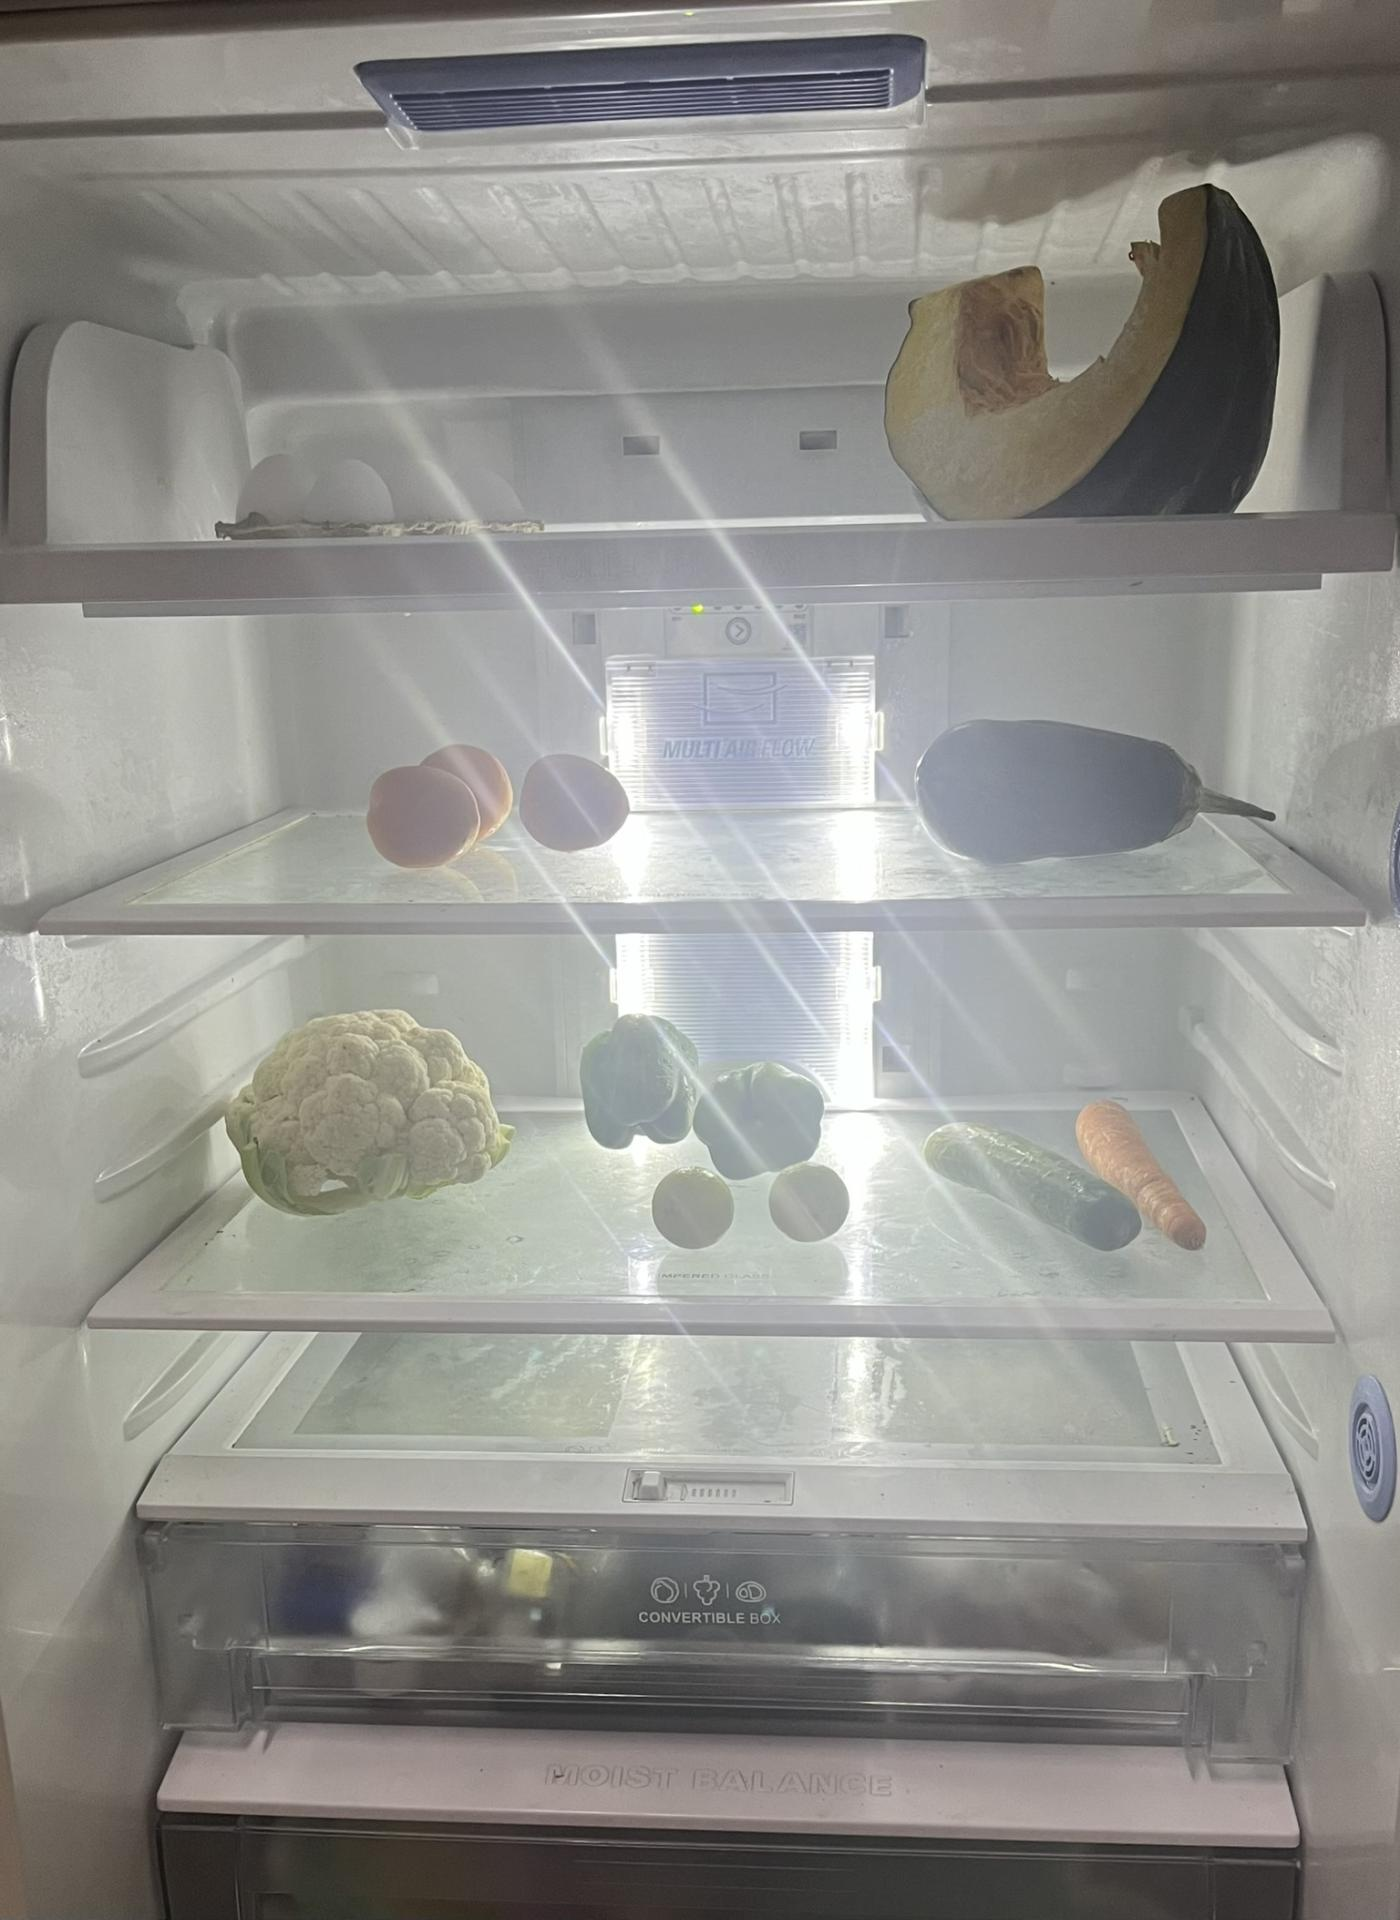brinjal: (904, 711, 1251, 862)
capsicum: (586, 1000, 829, 1169)
carrots: (1076, 1090, 1211, 1249)
cauliflower: (227, 1002, 514, 1209)
cucumber: (917, 1127, 1150, 1264)
egg: (231, 450, 522, 538)
lemon: (644, 1149, 741, 1254), (766, 1151, 853, 1255)
pumpkin: (883, 182, 1287, 529)
tomato: (361, 742, 520, 871), (522, 748, 644, 853)
